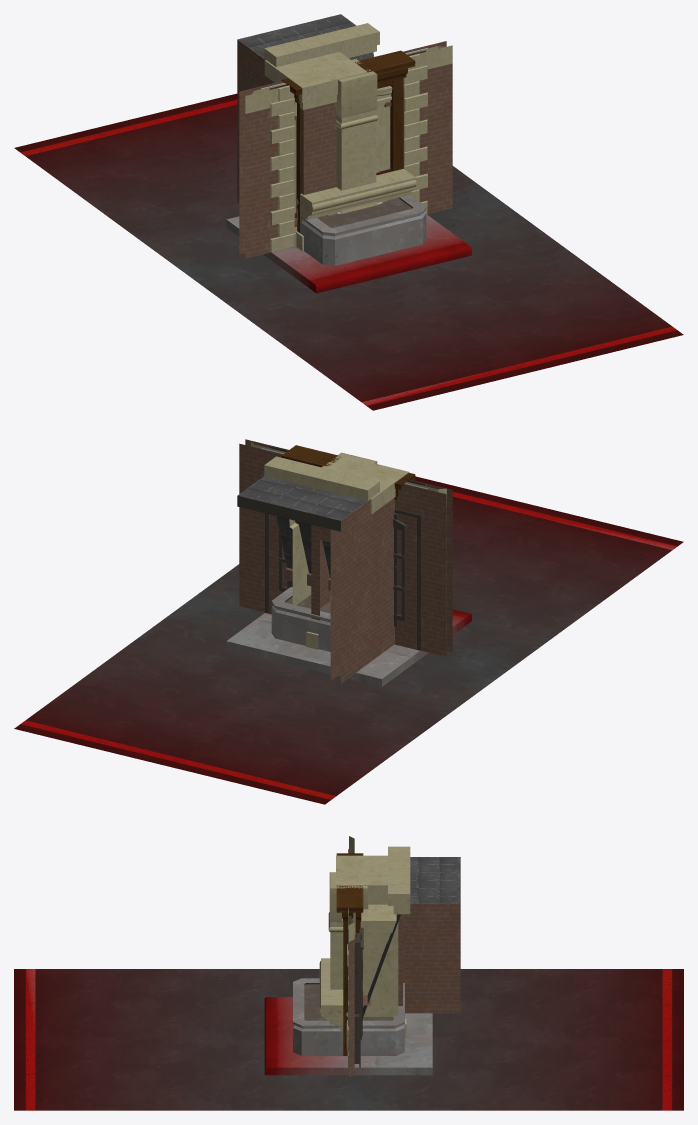
File: city.glb
The picture shows the model from 3 angles, top to bottom: view 1: azimuth 30°, elevation 25°; view 2: azimuth 150°, elevation 25°; view 3: azimuth 270°, elevation 25°; orthographic projection. The views are drawn at different scales.
Visible parts, largest first — view 1: Street_4Lane_noSidewalk, Brick_RedWhite_DoubleWindow, Prop_Planter_Single, Sidewalk_Straight_3m, DoorFrame_Wooden, Trim_Column_Top, Cornice_Trim_Center, Roof_SlateCornice_Center, Brick_CornerColumn_Bottom, Brick_CornerColumn_Center, Brick_CornerColumn_Cap, Roof_Slate_Window_1 (+7 smaller); view 2: Street_4Lane_noSidewalk, Metal_Window, Brick_Corner_Plain, Sidewalk_Straight_3m, Roof_Slate_Center, Brick_Window_CurvedDouble, Roof_Slate_Window_1, Roof_SlateCornice_Center, Prop_Planter_Single, Roof_SlateCornice_Window_1, Brick_CornerColumn_Cap, Brick_CornerColumn_Bottom (+3 smaller); view 3: Street_4Lane_noSidewalk, Brick_Corner_Plain, Sidewalk_Straight_3m, Prop_Planter_Single, Roof_SlateCornice_Window_1, Roof_Slate_Center, Roof_Slate_Window_1, DoorFrame_Wooden, Brick_CornerColumn_Cap, Roof_SlateCornice_Center, Cornice_Trim_Center, Trim_Column_Top (+3 smaller).
Part boxes in pixels (x1,y1,x2,y2): Street_4Lane_noSidewalk: (14,93,683,410); Brick_RedWhite_DoubleWindow: (239,41,452,258); Prop_Planter_Single: (300,195,426,265); Sidewalk_Straight_3m: (226,214,471,293); DoorFrame_Wooden: (281,50,415,232); Trim_Column_Top: (335,58,378,162); Cornice_Trim_Center: (300,168,416,224); Roof_SlateCornice_Center: (264,23,379,66); Brick_CornerColumn_Bottom: (295,102,336,251); Brick_CornerColumn_Center: (301,102,336,192); Brick_CornerColumn_Cap: (264,52,367,88); Roof_Slate_Window_1: (237,14,392,172); Street_4Lane_noSidewalk: (14,476,683,804); Metal_Window: (239,439,452,656); Brick_Corner_Plain: (330,498,394,683); Sidewalk_Straight_3m: (226,609,471,686); Roof_Slate_Center: (237,476,366,531); Brick_Window_CurvedDouble: (269,445,426,648); Roof_Slate_Window_1: (242,476,367,606); Roof_SlateCornice_Center: (266,456,379,577); Prop_Planter_Single: (271,587,330,651); Roof_SlateCornice_Window_1: (264,457,379,527); Brick_CornerColumn_Cap: (320,456,409,542); Brick_CornerColumn_Bottom: (306,524,330,649); Street_4Lane_noSidewalk: (14,969,683,1110); Brick_Corner_Plain: (403,904,460,1013); Sidewalk_Straight_3m: (264,997,432,1075); Prop_Planter_Single: (293,978,404,1055); Roof_SlateCornice_Window_1: (362,846,410,1016); Roof_Slate_Center: (362,857,460,1017); Roof_Slate_Window_1: (342,857,460,957); DoorFrame_Wooden: (336,853,363,1055); Brick_CornerColumn_Cap: (336,855,387,885); Roof_SlateCornice_Center: (388,846,410,914); Cornice_Trim_Center: (319,958,343,1031); Trim_Column_Top: (328,872,368,963).
Bounding box in the file's own units: 6 × 3.4 × 12.
Materials: 10 (8 with a texture image).
